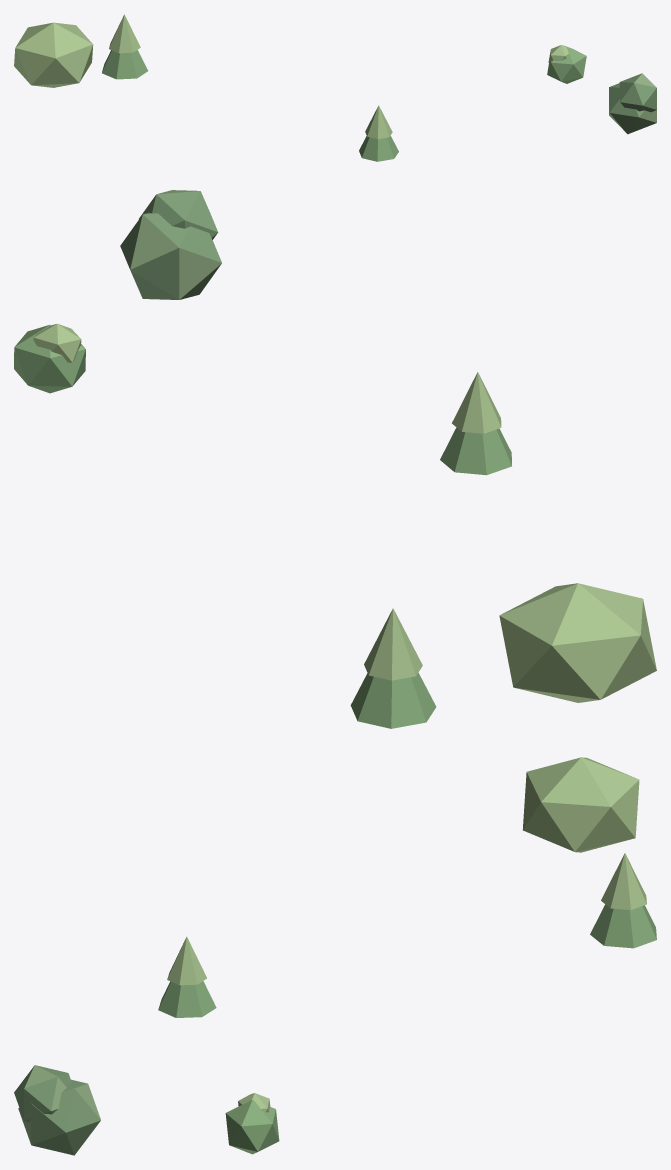
Rendered from side_treasure_hollow_wind_canopies.fbx.
3 views of the same model, one above another, from view 1: azimuth 30°, elevation 25°; view 2: azimuth 150°, elevation 25°; view 3: azimuth 270°, elevation 25° (orthographic). The views are drawn at different scales.
Visible parts, largest first — view 1: chunk_side_treasure_hollow__tree_canopy_01, chunk_side_treasure_hollow__detail_scatter_tree_02_canopy, chunk_side_treasure_hollow__tree_canopy_02, chunk_side_treasure_hollow__tree_canopy_07, chunk_side_treasure_hollow__tree_canopy_04, chunk_side_treasure_hollow__tree_canopy_03, chunk_side_treasure_hollow__tree_canopy_05, chunk_side_treasure_hollow__tree_canopy_06; view 2: chunk_side_treasure_hollow__tree_canopy_01, chunk_side_treasure_hollow__detail_scatter_tree_02_canopy, chunk_side_treasure_hollow__tree_canopy_02, chunk_side_treasure_hollow__tree_canopy_07, chunk_side_treasure_hollow__tree_canopy_04, chunk_side_treasure_hollow__tree_canopy_03, chunk_side_treasure_hollow__tree_canopy_05, chunk_side_treasure_hollow__tree_canopy_06; view 3: chunk_side_treasure_hollow__tree_canopy_01, chunk_side_treasure_hollow__detail_scatter_tree_02_canopy, chunk_side_treasure_hollow__tree_canopy_02, chunk_side_treasure_hollow__tree_canopy_07, chunk_side_treasure_hollow__tree_canopy_04, chunk_side_treasure_hollow__tree_canopy_03, chunk_side_treasure_hollow__tree_canopy_05.
Boxes of the visible parts, x1,y1,x2,y2 form: chunk_side_treasure_hollow__tree_canopy_01: [14, 22, 93, 87]; chunk_side_treasure_hollow__detail_scatter_tree_02_canopy: [609, 73, 656, 134]; chunk_side_treasure_hollow__tree_canopy_02: [102, 50, 147, 79]; chunk_side_treasure_hollow__tree_canopy_07: [547, 46, 586, 83]; chunk_side_treasure_hollow__tree_canopy_04: [359, 135, 398, 161]; chunk_side_treasure_hollow__tree_canopy_03: [109, 14, 140, 53]; chunk_side_treasure_hollow__tree_canopy_05: [365, 105, 392, 139]; chunk_side_treasure_hollow__tree_canopy_06: [548, 45, 568, 63]; chunk_side_treasure_hollow__tree_canopy_01: [499, 583, 656, 702]; chunk_side_treasure_hollow__detail_scatter_tree_02_canopy: [120, 190, 221, 299]; chunk_side_treasure_hollow__tree_canopy_02: [350, 672, 436, 728]; chunk_side_treasure_hollow__tree_canopy_07: [14, 325, 85, 393]; chunk_side_treasure_hollow__tree_canopy_04: [440, 427, 511, 475]; chunk_side_treasure_hollow__tree_canopy_03: [364, 608, 422, 680]; chunk_side_treasure_hollow__tree_canopy_05: [452, 372, 501, 433]; chunk_side_treasure_hollow__tree_canopy_06: [33, 323, 81, 362]; chunk_side_treasure_hollow__tree_canopy_01: [522, 757, 639, 852]; chunk_side_treasure_hollow__detail_scatter_tree_02_canopy: [14, 1065, 100, 1155]; chunk_side_treasure_hollow__tree_canopy_02: [590, 904, 656, 948]; chunk_side_treasure_hollow__tree_canopy_07: [225, 1100, 279, 1154]; chunk_side_treasure_hollow__tree_canopy_04: [158, 981, 216, 1017]; chunk_side_treasure_hollow__tree_canopy_03: [601, 853, 646, 909]; chunk_side_treasure_hollow__tree_canopy_05: [167, 936, 206, 985].
Bounding box in the file's own units: 178 × 29.11 × 147.
